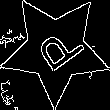P_SW: (26, 20, 85, 79)
